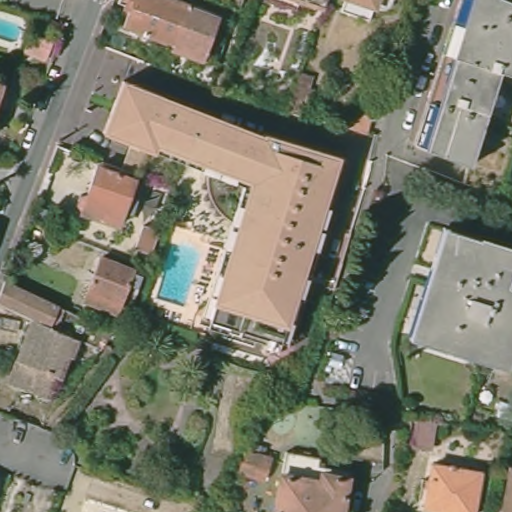pool: (157, 240, 203, 307), (1, 14, 30, 50)
